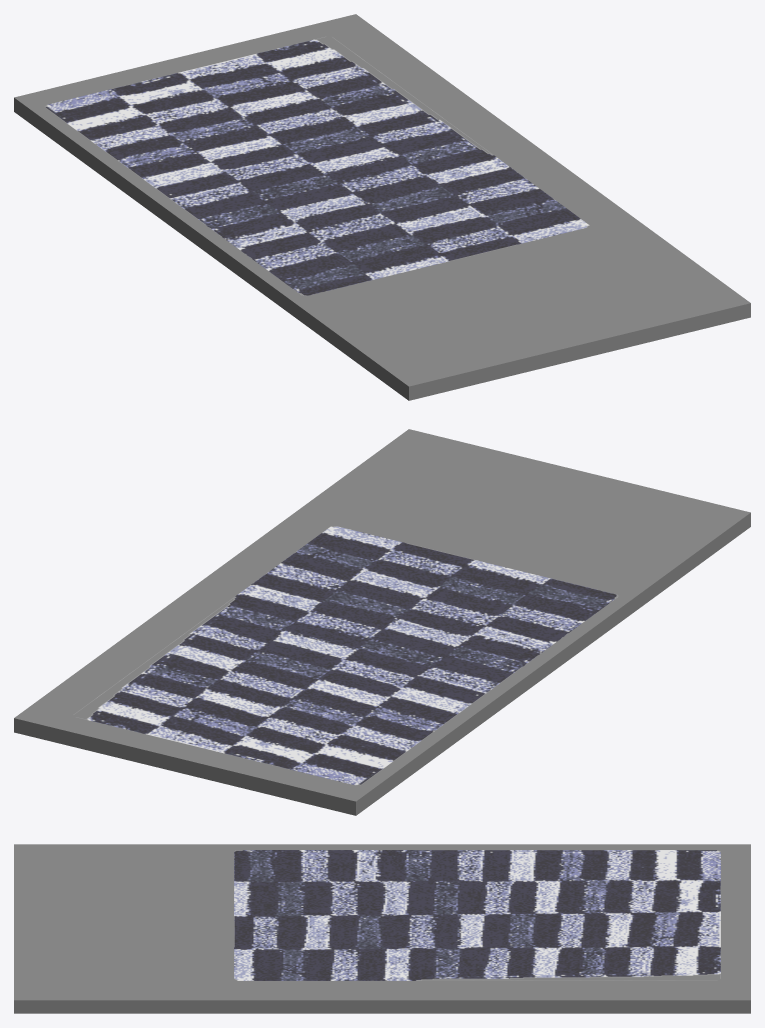
File: Chão(Sala).glb
3 views of the same model, one above another, from view 1: azimuth 30°, elevation 25°; view 2: azimuth 150°, elevation 25°; view 3: azimuth 270°, elevation 25° (orthographic). The views are drawn at different scales.
Parts seen in each view (by area): view 1: Carpet, Floor2-col; view 2: Carpet, Floor2-col; view 3: Carpet, Floor2-col.
Part boxes in pixels (<box>): Carpet: <box>45,38,589,295</box>; Floor2-col: <box>14,14,750,400</box>; Carpet: <box>78,526,617,785</box>; Floor2-col: <box>14,429,750,815</box>; Carpet: <box>234,850,720,980</box>; Floor2-col: <box>14,844,750,1013</box>.
Bounding box in the file's own units: 5 × 0.2048 × 10.
Materials: 2 (1 with a texture image).
